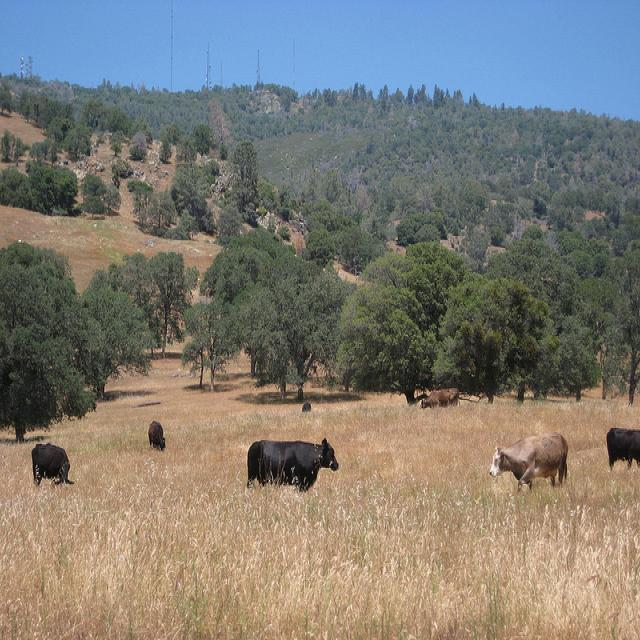cow: (487, 430, 567, 494), (246, 436, 339, 489), (29, 442, 75, 486), (605, 425, 638, 468), (417, 387, 459, 408), (147, 420, 164, 449), (301, 400, 310, 411)
